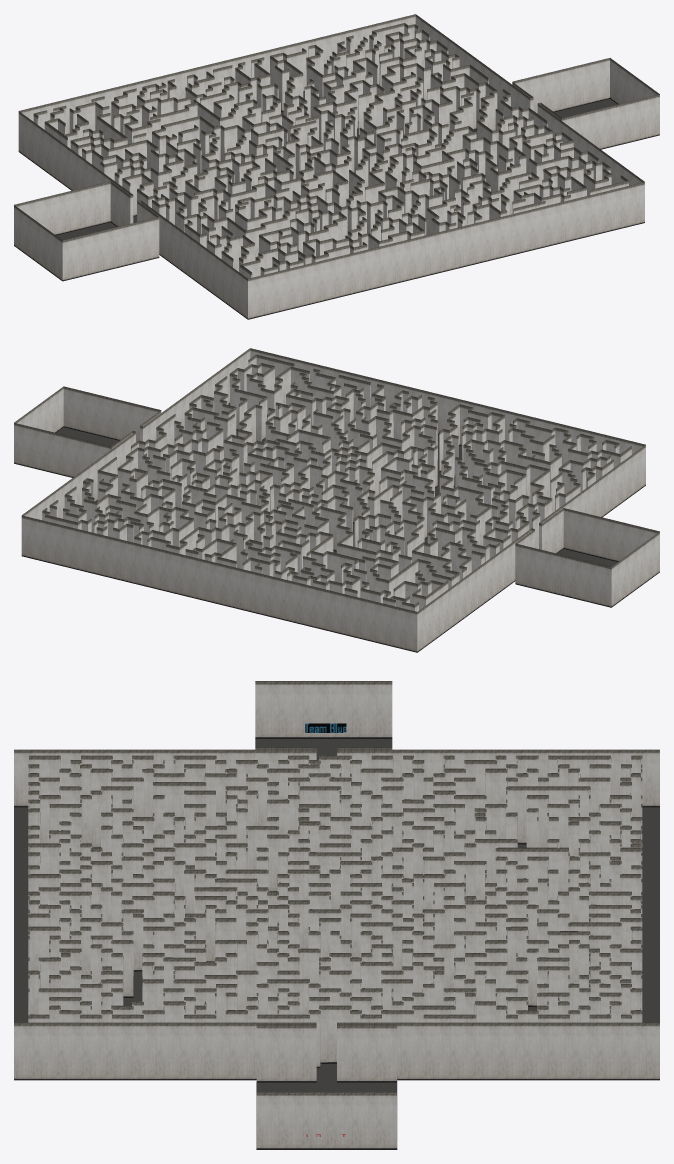
Rendered from Map.fbx.
3 views of the same model, one above another, from view 1: azimuth 30°, elevation 25°; view 2: azimuth 150°, elevation 25°; view 3: azimuth 270°, elevation 25° (orthographic). The views are drawn at different scales.
Parts seen in each view (by area): view 1: Walls, Floor; view 2: Walls, Floor; view 3: Walls, Floor.
Part boxes in pixels (x1=…): Walls: x1=14, y1=14, x2=659, y2=319; Floor: x1=56, y1=92, x2=617, y2=240; Walls: x1=14, y1=348, x2=659, y2=652; Floor: x1=56, y1=404, x2=617, y2=566; Walls: x1=14, y1=681, x2=659, y2=1149; Floor: x1=14, y1=739, x2=659, y2=1091.
Size of the model in its own units: 950 by 62.73 by 631.
